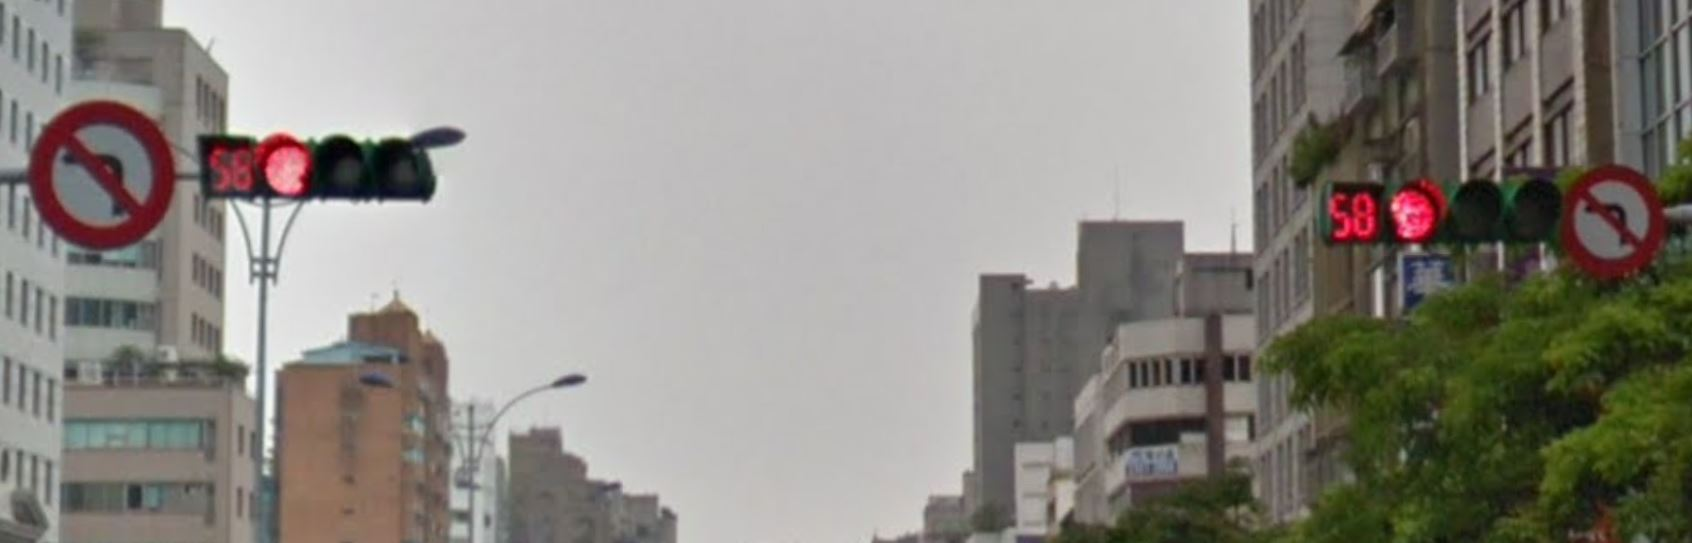No_left_turn: (28, 99, 176, 247), (1563, 165, 1664, 275)
Traffic_light_red: (1316, 177, 1563, 247), (195, 134, 439, 201)
